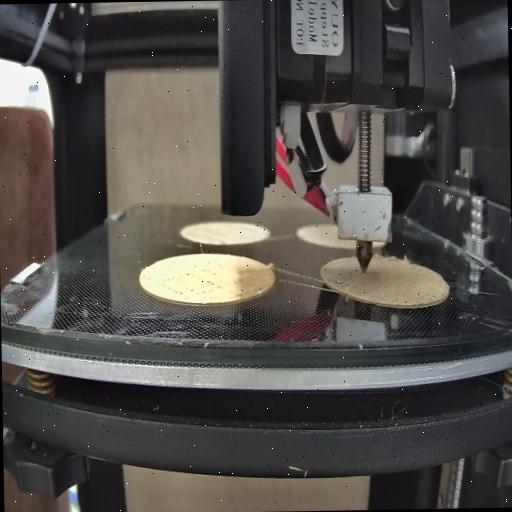under_extrusion: (160, 254, 221, 304), (392, 274, 444, 308), (231, 278, 265, 302), (326, 267, 350, 292)
